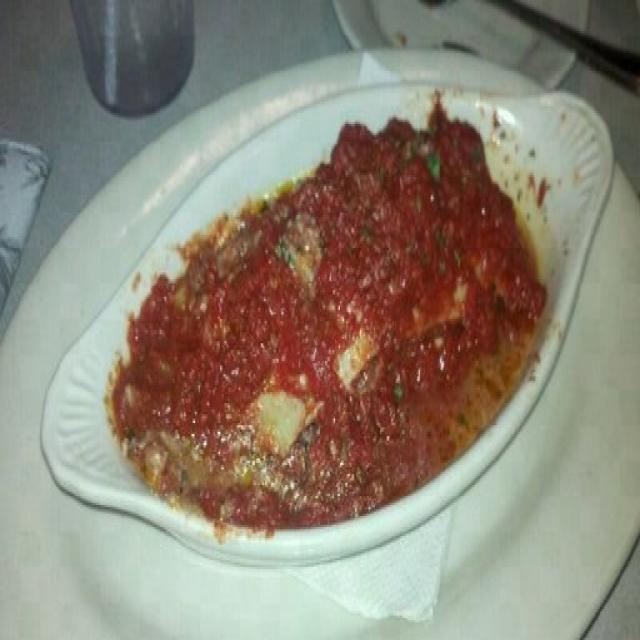Lasagna: (102, 84, 557, 589)
